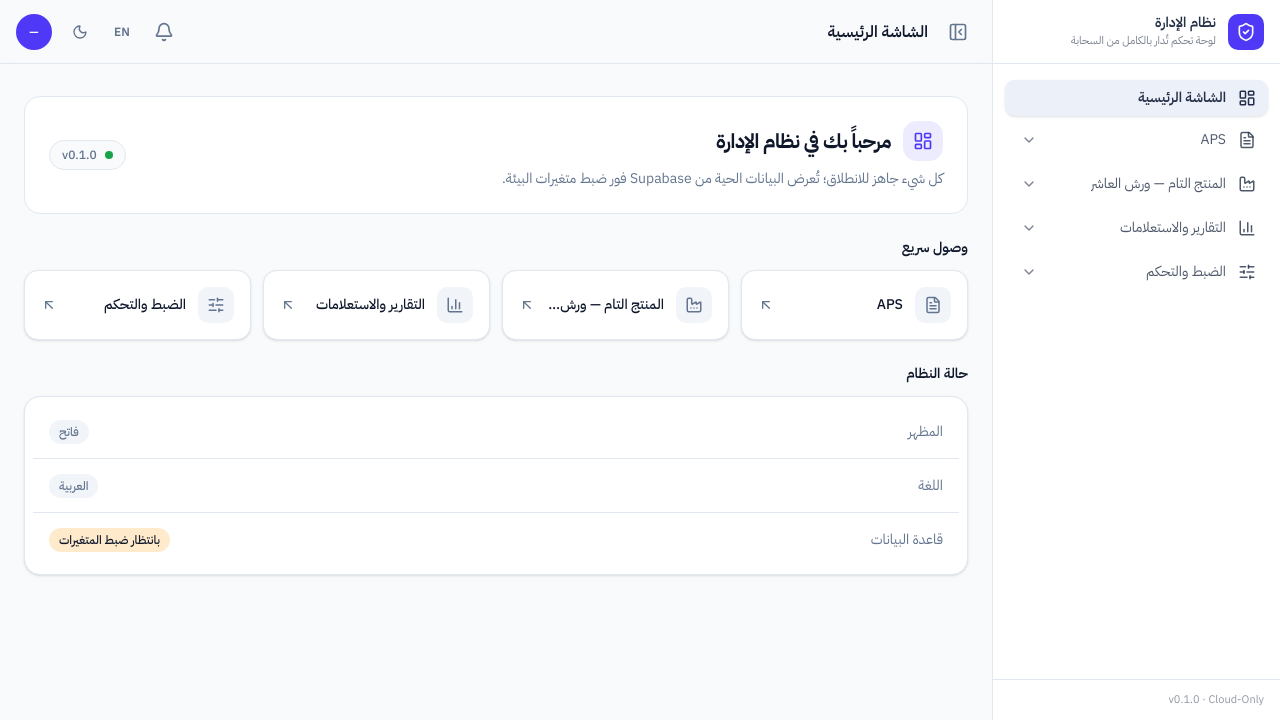
Scenario: DashboardLayout (responsive shell + tree navigation) › opens the APS workspace group to its read-only letters link
The image size is (1280, 720).
Click the button named "فتح APS" at (1029, 140), box [1017,128,1041,152]
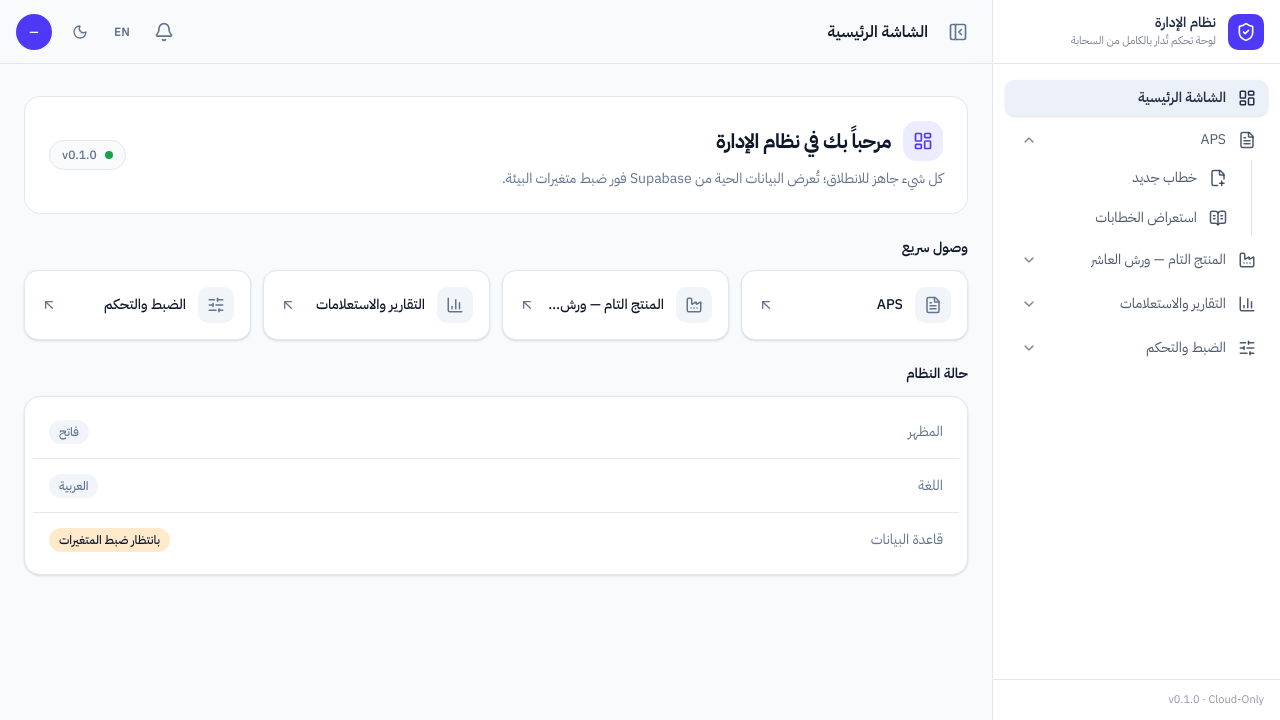
Now the button named "فتح APS" is expanded, box [1017,128,1041,152]
